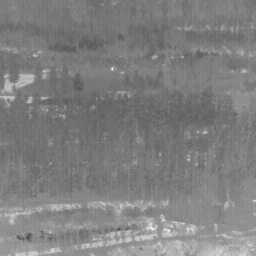aircraft: (96, 98, 98, 100)
